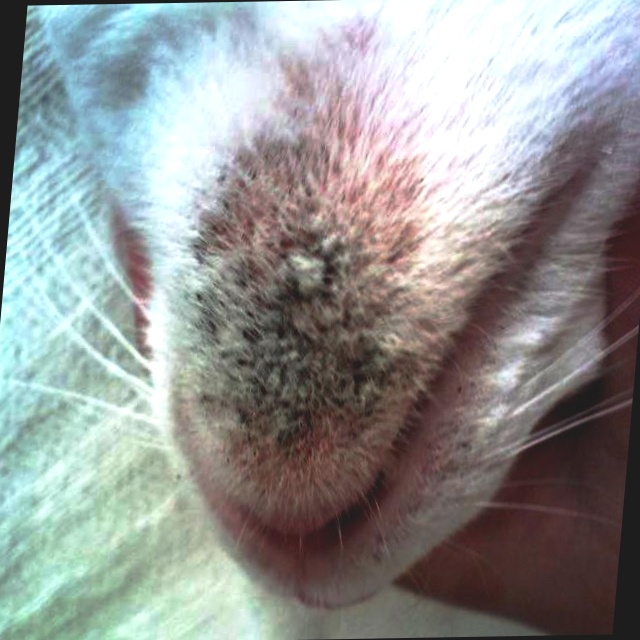acne: (171, 213, 404, 465)
